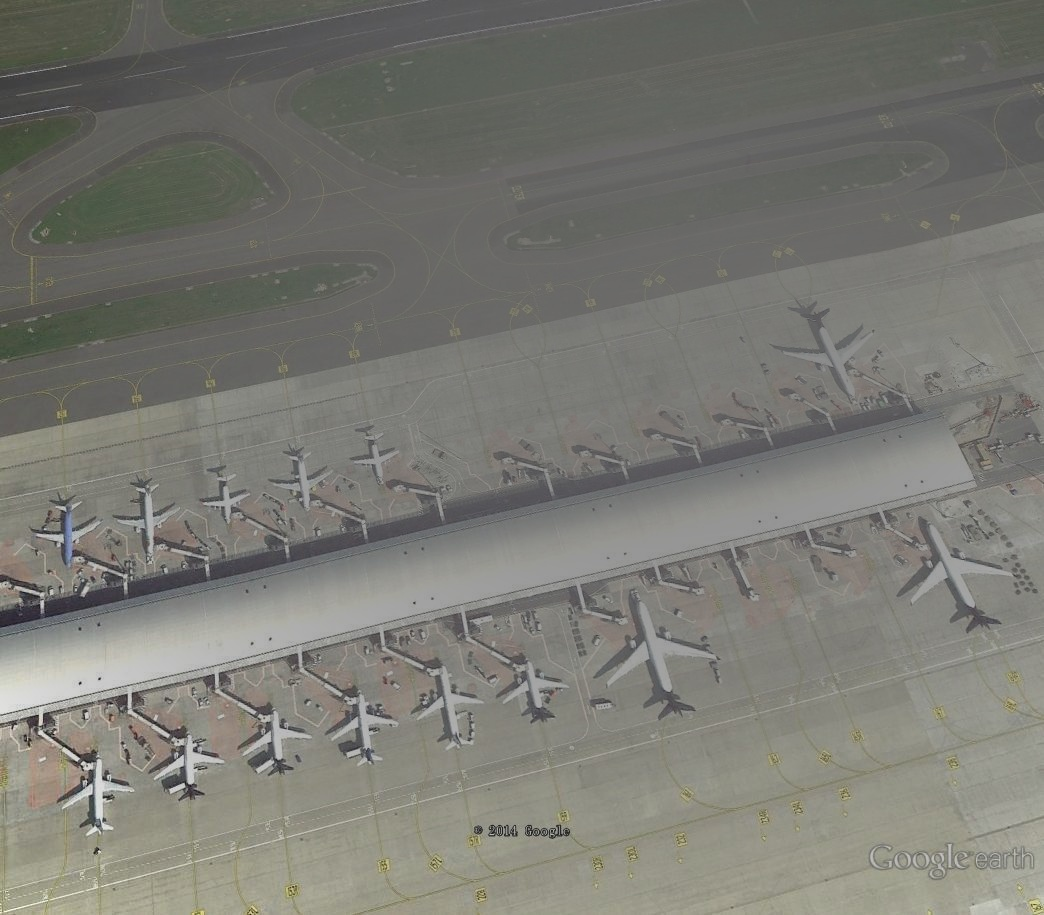aircraft: (603, 596, 723, 723), (904, 518, 1023, 638), (773, 307, 880, 404), (412, 661, 488, 755), (60, 756, 139, 840), (328, 686, 404, 769), (149, 731, 232, 806), (31, 498, 107, 573), (111, 480, 184, 556), (238, 706, 315, 777), (499, 658, 572, 727), (266, 444, 337, 513), (348, 430, 405, 487), (198, 472, 253, 530)
